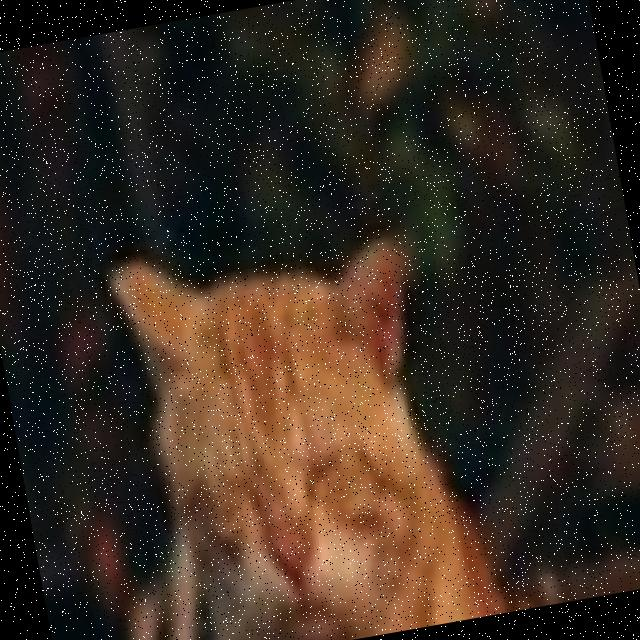Sad: (157, 397, 438, 640)
